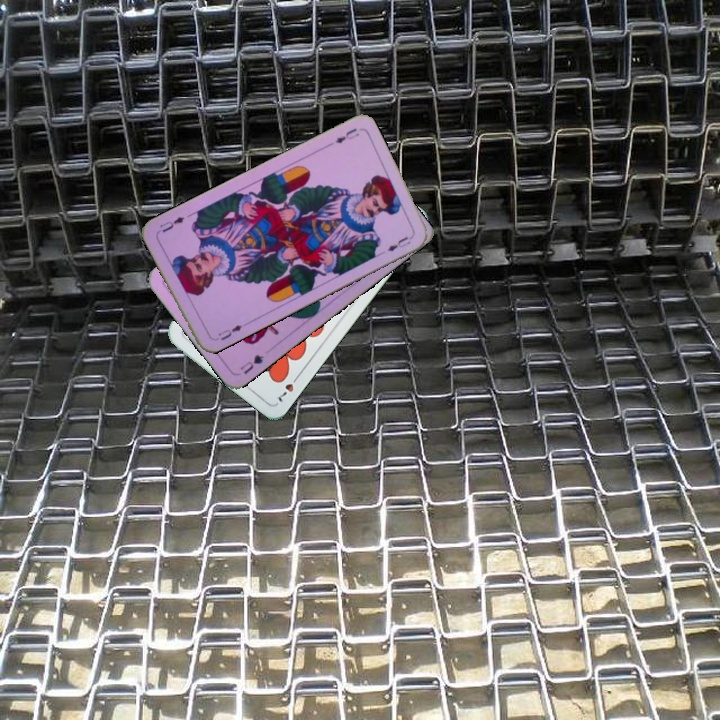EU: (214, 321, 245, 343), (331, 124, 362, 146)
GU: (236, 350, 267, 377)
H7: (272, 370, 302, 405)
